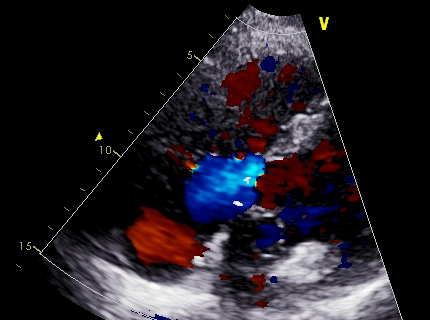TR: (185, 141, 264, 210)
